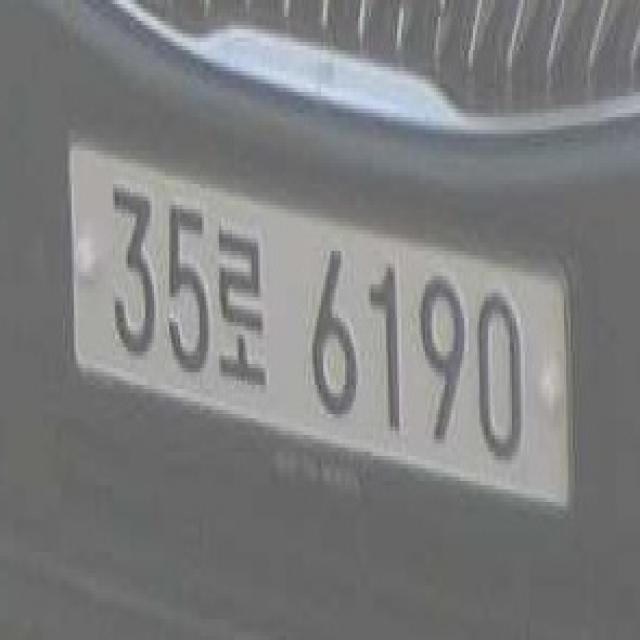0: (471, 285, 525, 460)
1: (369, 260, 403, 440)
3: (106, 180, 158, 355)
5: (167, 197, 213, 372)
6: (306, 243, 358, 418)
9: (419, 272, 466, 443)
license_plate: (63, 138, 579, 519)
lo: (215, 226, 267, 389)
